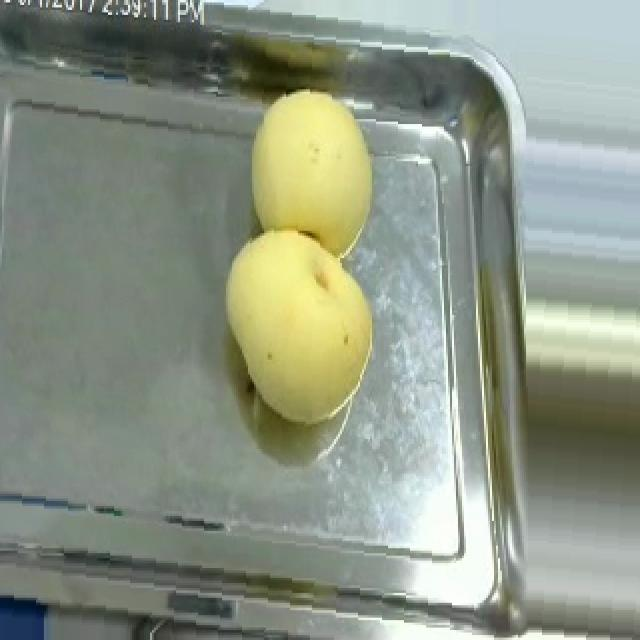Fruit: (214, 218, 384, 432), (232, 80, 386, 266)
